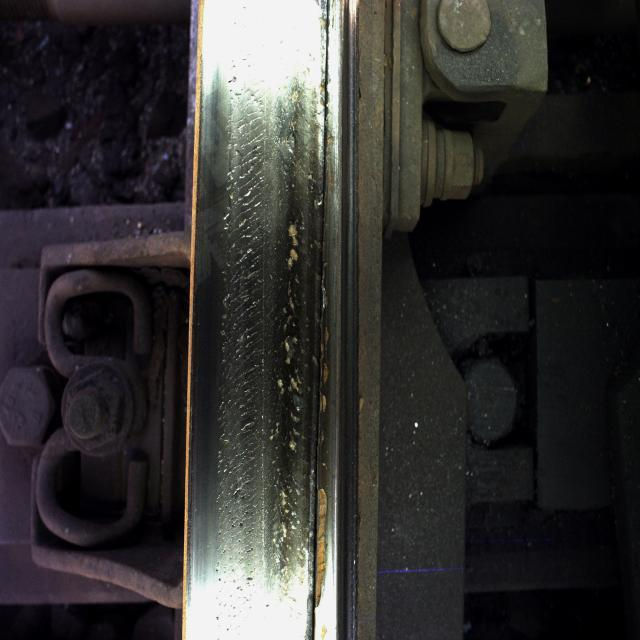scar: (211, 33, 314, 616)
